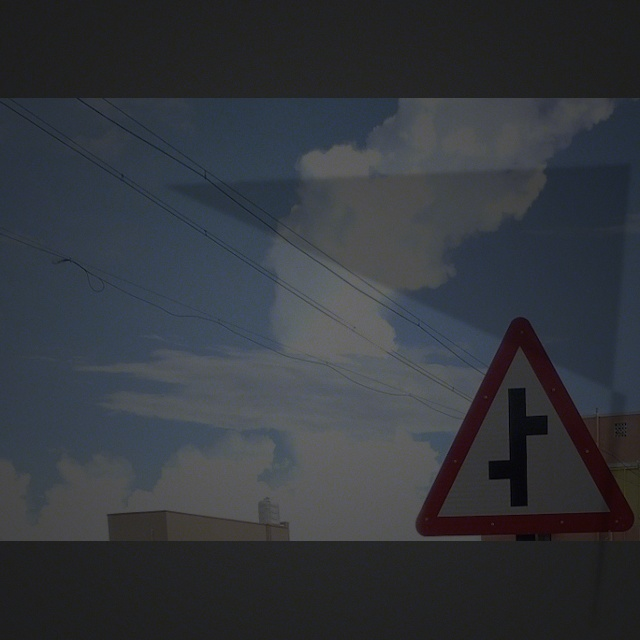Staggered_Intersection: (402, 318, 630, 529)
